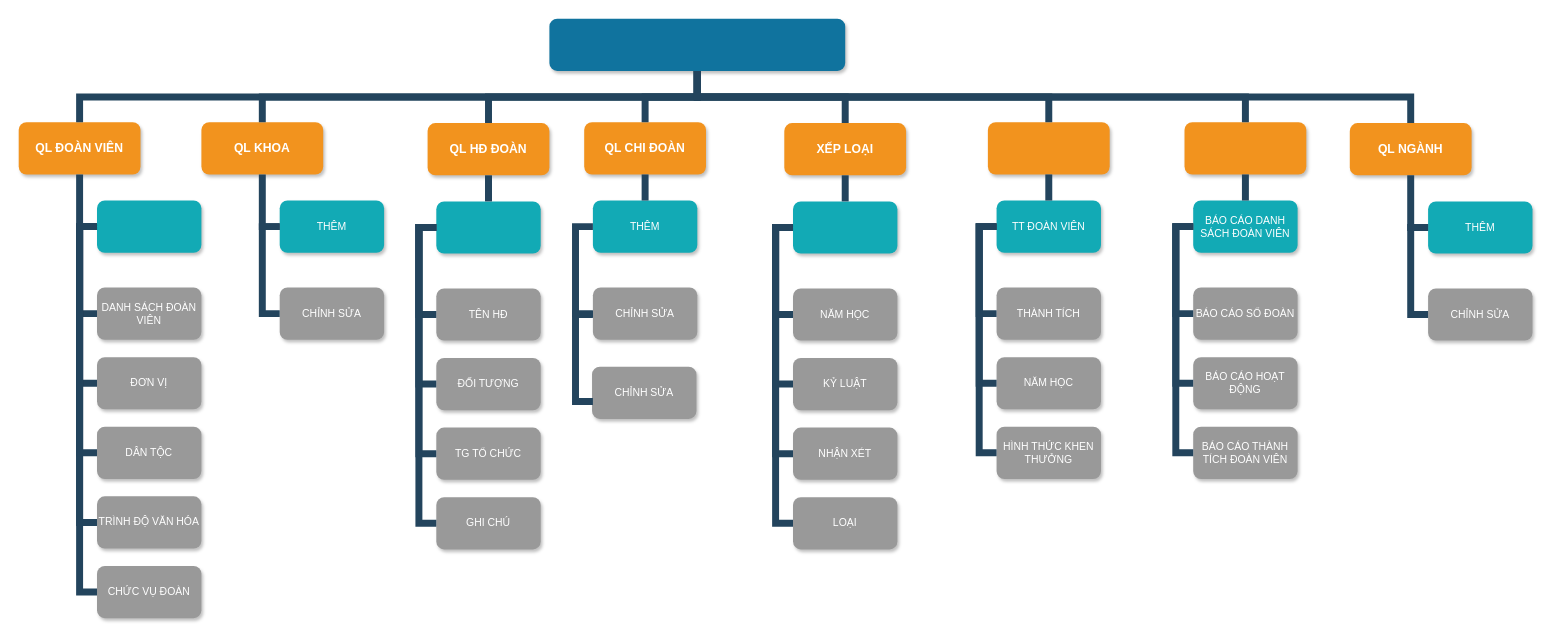
Image size: 1552x639. Some labels were removed from this diagram. Each missing label, with the centre of its shape:
KHEN THƯỞNG: the point at 1049,149
LOẠI HĐ: the point at 488,228
LẬP BÁO CÁO: the point at 1246,149
QL SỔ ĐOÀN: the point at 149,227
QUẢN LÝ HOẠT ĐỘNG ĐOÀN: the point at 697,46
TÊN ĐOÀN VIÊN: the point at 845,228
